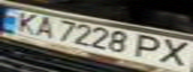2: (69, 21, 93, 48), (90, 24, 112, 53)
7: (51, 18, 78, 44)
8: (109, 28, 133, 56)
A: (27, 14, 60, 39)
K: (6, 9, 42, 35)
P: (133, 33, 169, 61)
X: (154, 37, 193, 70)
